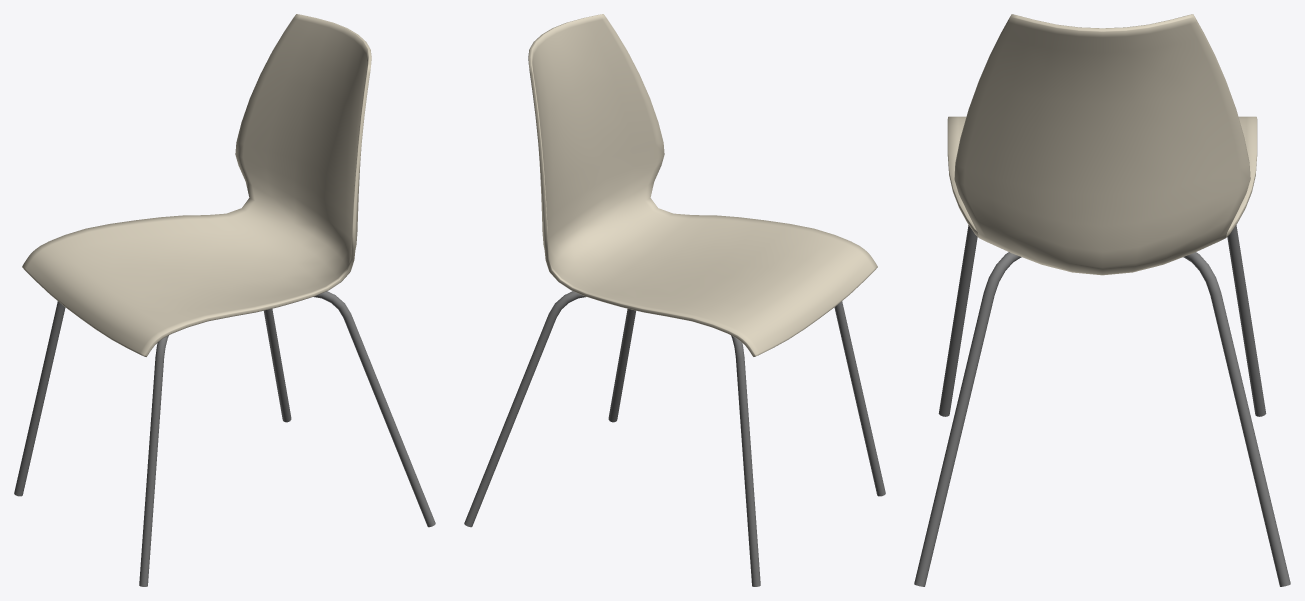
The picture shows the model from 3 angles, left to right: view 1: azimuth 30°, elevation 25°; view 2: azimuth 150°, elevation 25°; view 3: azimuth 270°, elevation 25°; orthographic projection. The views are drawn at different scales.
Visible parts, largest first — view 1: furniture_megapack_1821, furniture_megapack_1822, furniture_megapack_1823; view 2: furniture_megapack_1821, furniture_megapack_1823, furniture_megapack_1822; view 3: furniture_megapack_1821, furniture_megapack_1822, furniture_megapack_1823.
Boxes of the visible parts, left/top/right/bottom form: furniture_megapack_1821: left=22, top=14, right=371, bottom=356; furniture_megapack_1822: left=14, top=291, right=435, bottom=527; furniture_megapack_1823: left=139, top=309, right=291, bottom=586; furniture_megapack_1821: left=528, top=14, right=877, bottom=356; furniture_megapack_1823: left=464, top=291, right=885, bottom=527; furniture_megapack_1822: left=608, top=309, right=760, bottom=586; furniture_megapack_1821: left=947, top=14, right=1257, bottom=275; furniture_megapack_1822: left=914, top=225, right=1266, bottom=586; furniture_megapack_1823: left=938, top=225, right=1290, bottom=586.
Size of the model in its own units: 55.24 by 81.28 by 49.86.
